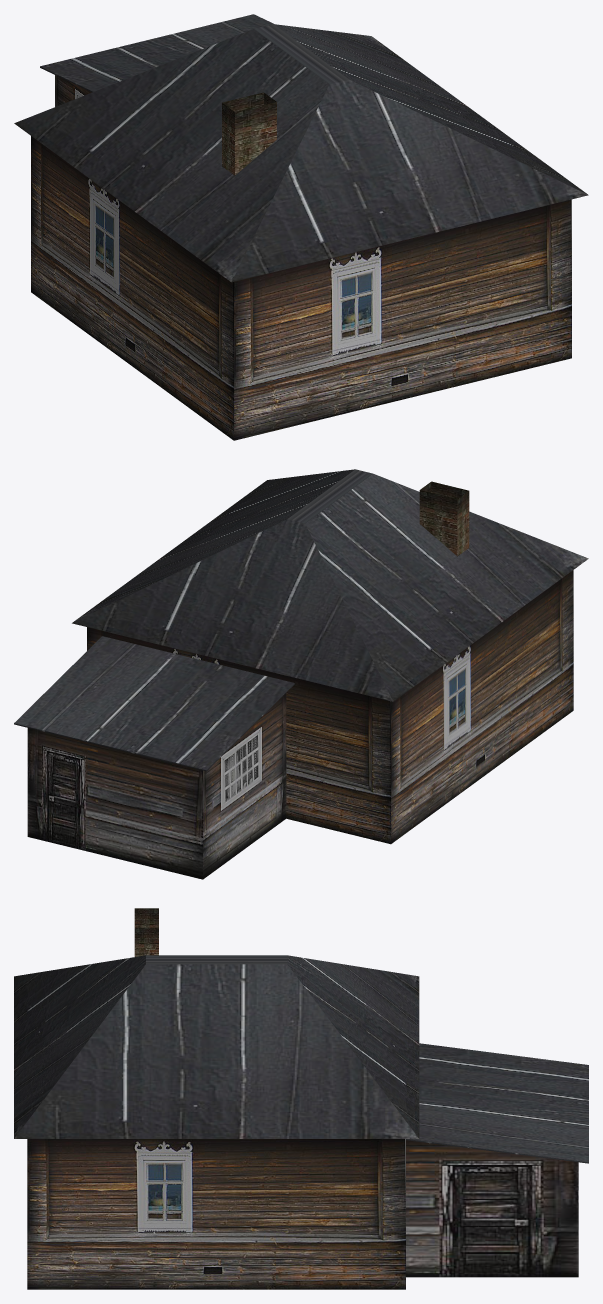
File: d_dom_1et_40.FBX
3 renders of one model, top to bottom at view 1: azimuth 30°, elevation 25°; view 2: azimuth 150°, elevation 25°; view 3: azimuth 270°, elevation 25°, orthographic. The views are drawn at different scales.
Parts seen in each view (by area): view 1: d_dom_1et_40; view 2: d_dom_1et_40; view 3: d_dom_1et_40.
Part boxes in pixels (box(x1,y1,x2,y2)): d_dom_1et_40: box(14, 14, 588, 440); d_dom_1et_40: box(14, 469, 588, 879); d_dom_1et_40: box(14, 908, 588, 1289).
Bounding box in the file's own units: 744 × 1111 × 541.
